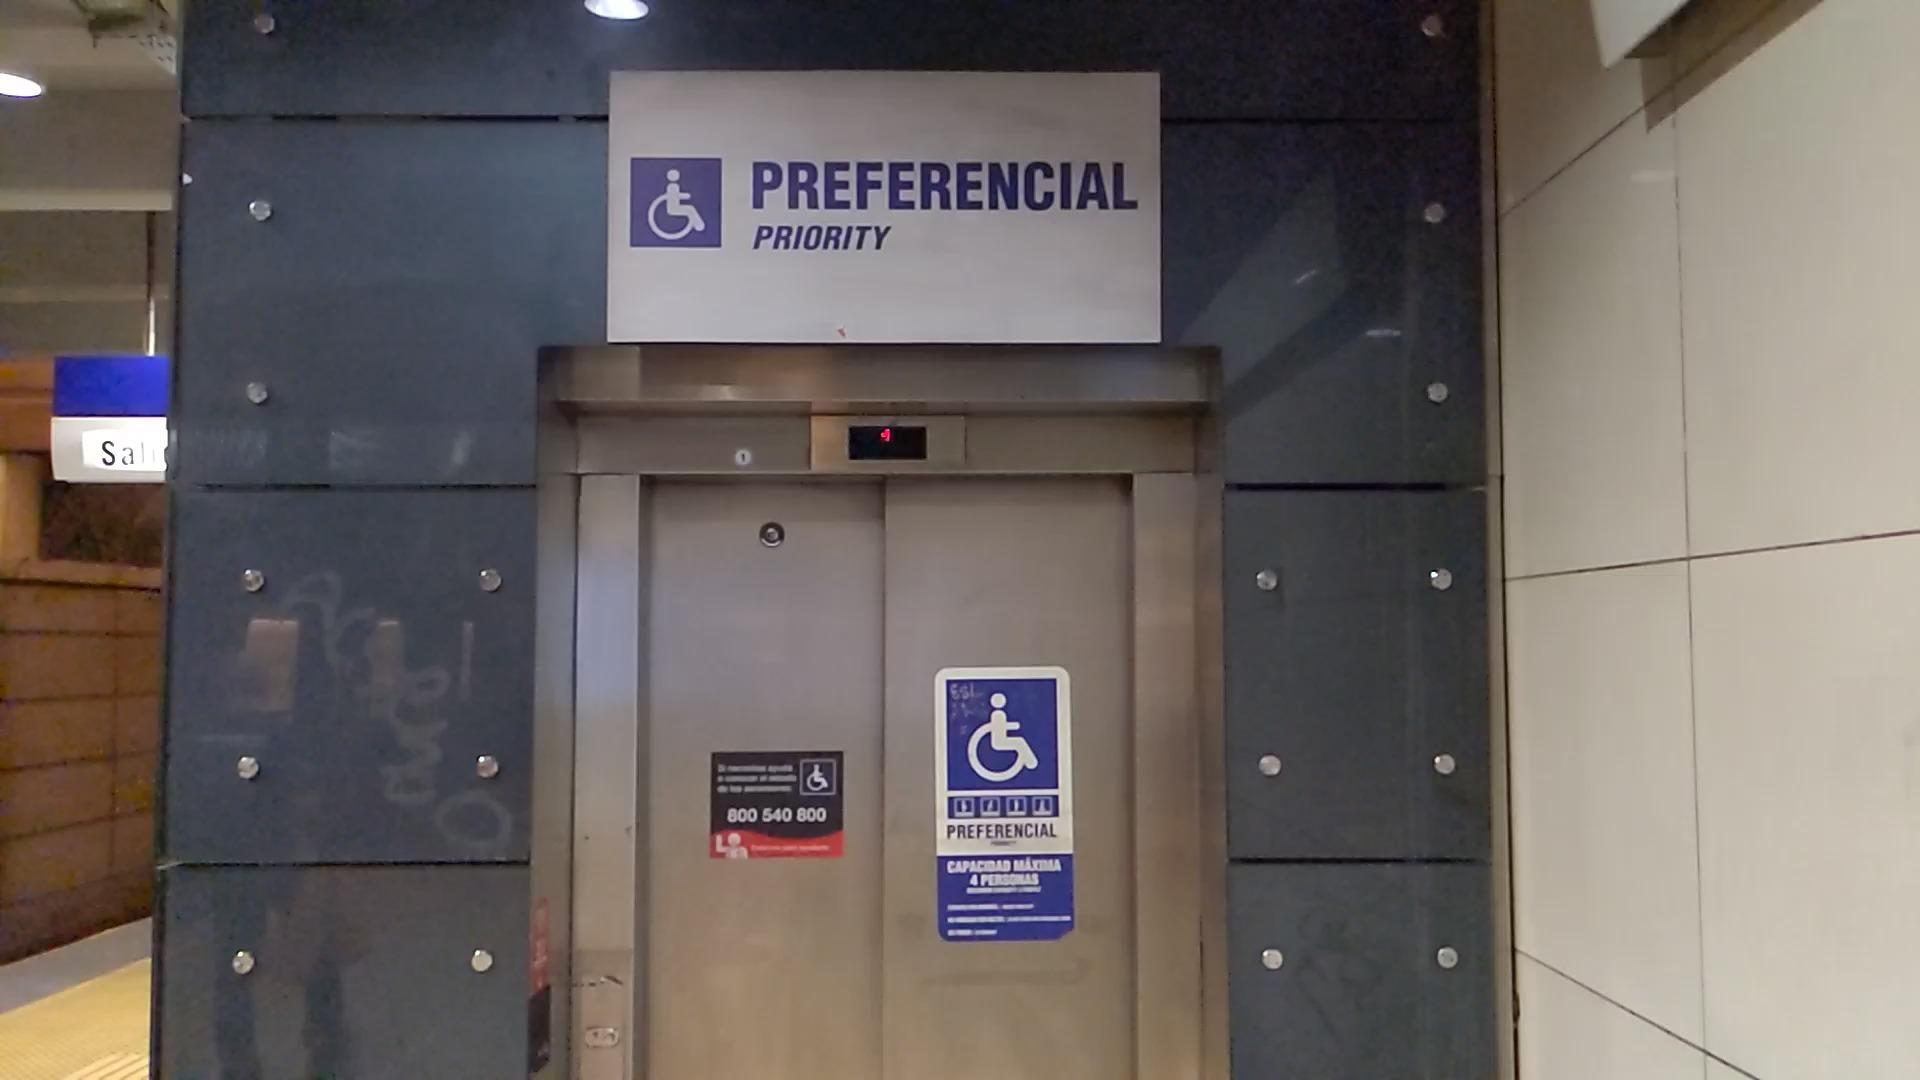handicapped symbol: (965, 692, 1040, 782), (644, 166, 709, 243), (807, 762, 829, 791)
